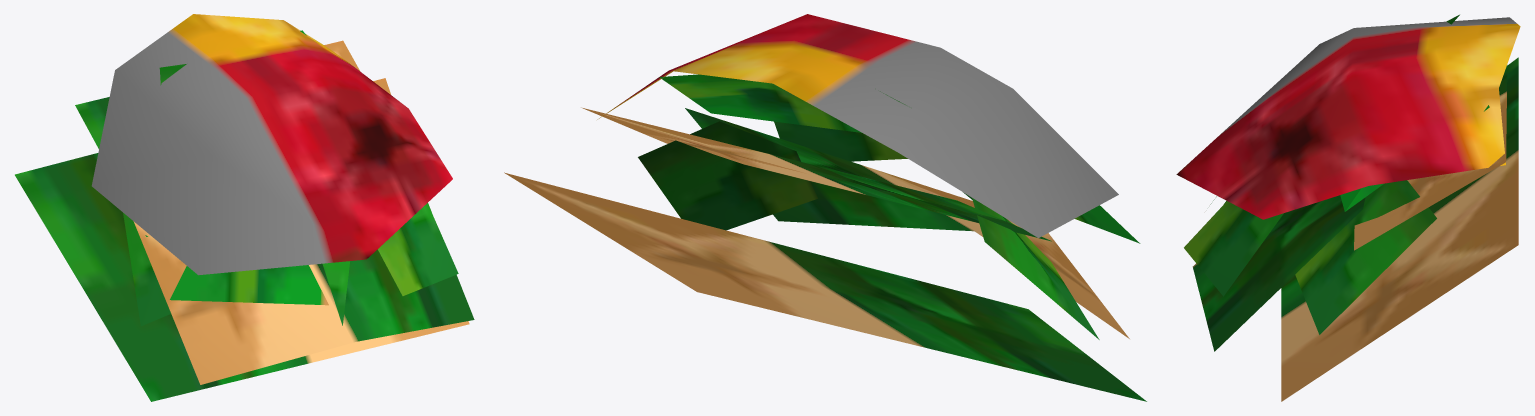
The model's file is fg_bushE_2_s.dae.
The picture shows the model from 3 angles, left to right: view 1: azimuth 30°, elevation 25°; view 2: azimuth 150°, elevation 25°; view 3: azimuth 270°, elevation 25°; orthographic projection. The views are drawn at different scales.
Visible parts, largest first — view 1: fg_bushE_2_s; view 2: fg_bushE_2_s; view 3: fg_bushE_2_s.
Part boxes in pixels (left/top/right/bottom): fg_bushE_2_s: left=15, top=14, right=474, bottom=401; fg_bushE_2_s: left=504, top=14, right=1146, bottom=401; fg_bushE_2_s: left=1176, top=14, right=1520, bottom=401.
Size of the model in its own units: 50.84 by 35.23 by 38.03.
1 material, 1 textured.
